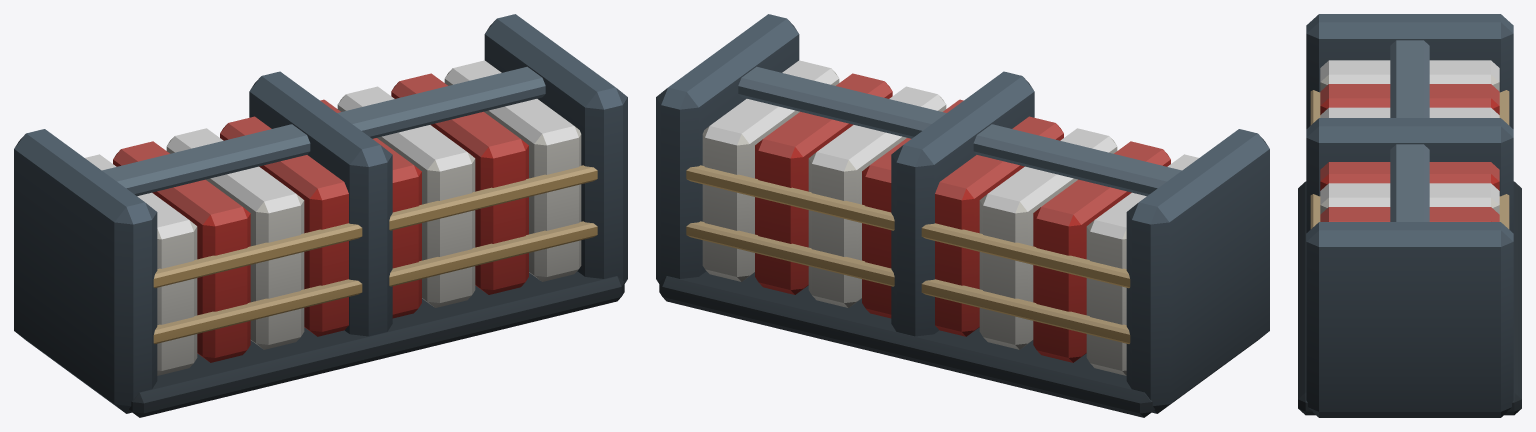
File: lifeguard-fence.glb
The picture shows the model from 3 angles, left to right: view 1: azimuth 30°, elevation 25°; view 2: azimuth 150°, elevation 25°; view 3: azimuth 270°, elevation 25°; orthographic projection. The views are drawn at different scales.
Parts seen in each view (by area): view 1: mesh_lifeguard_fence; view 2: mesh_lifeguard_fence; view 3: mesh_lifeguard_fence.
Part boxes in pixels (left/top/right/bottom): mesh_lifeguard_fence: left=14, top=14, right=627, bottom=417; mesh_lifeguard_fence: left=656, top=14, right=1269, bottom=417; mesh_lifeguard_fence: left=1298, top=14, right=1521, bottom=417.
Size of the model in its own units: 1.92 by 0.74 by 0.8.
